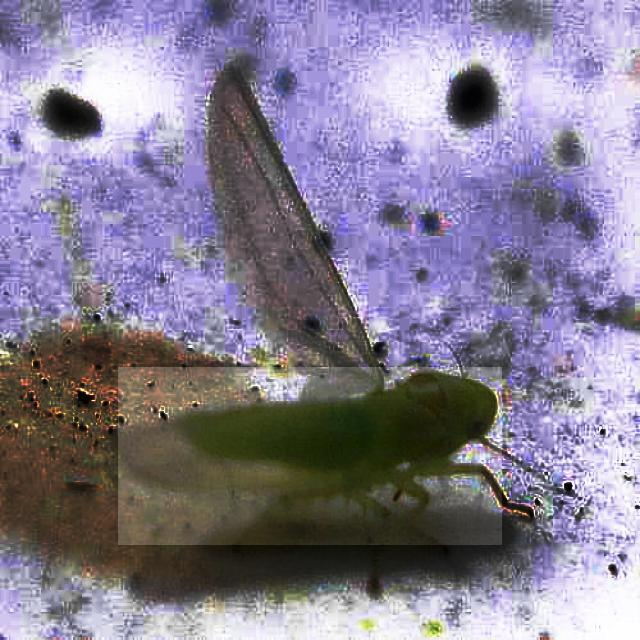green-leafhopper: (119, 367, 503, 545)
